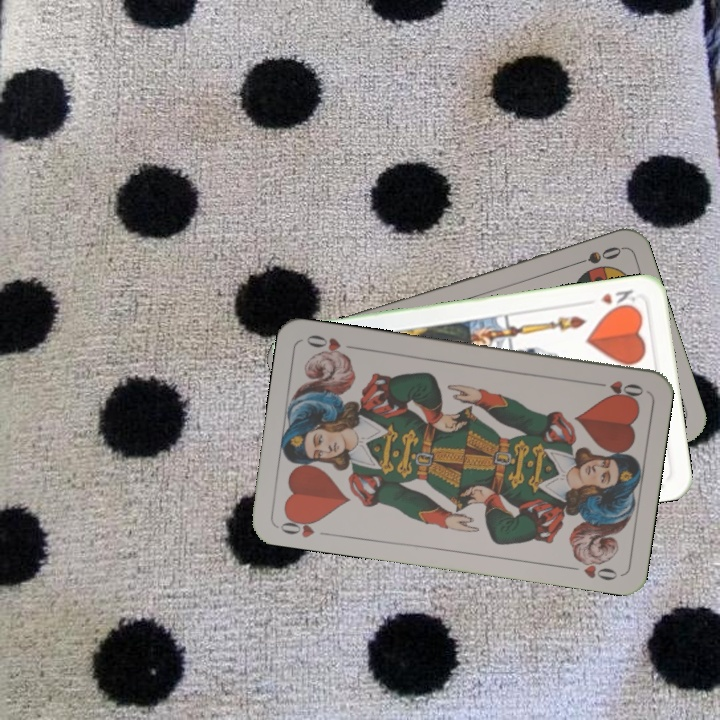HK: (596, 285, 638, 313)
HO: (588, 376, 646, 401), (276, 511, 323, 540)
SO: (566, 242, 624, 270)
